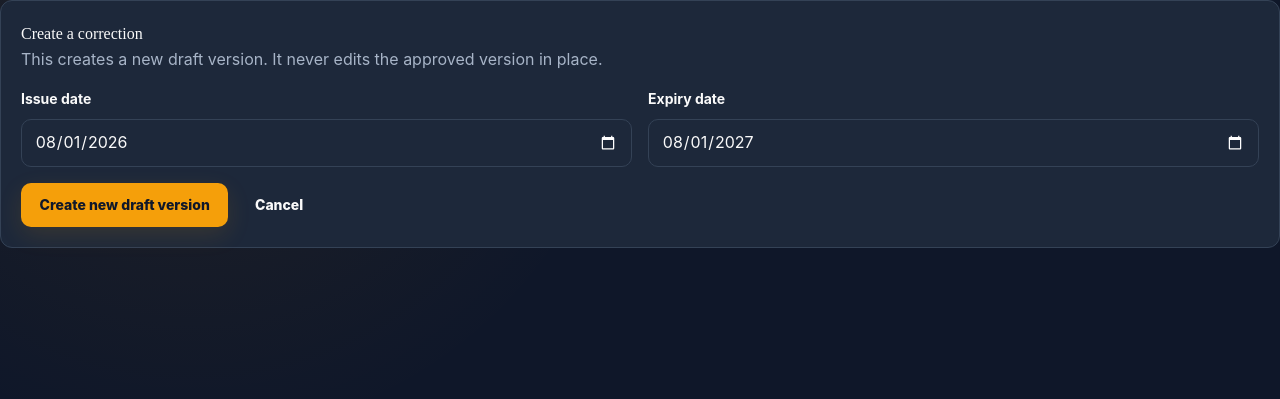
DocumentCorrectionForm › prefills authoritative values and associates invalid date order with expiry
The image size is (1280, 399).
Type "2028-09-01" into the date field labelled "Issue date" at (326,143), box [21,119,632,167]
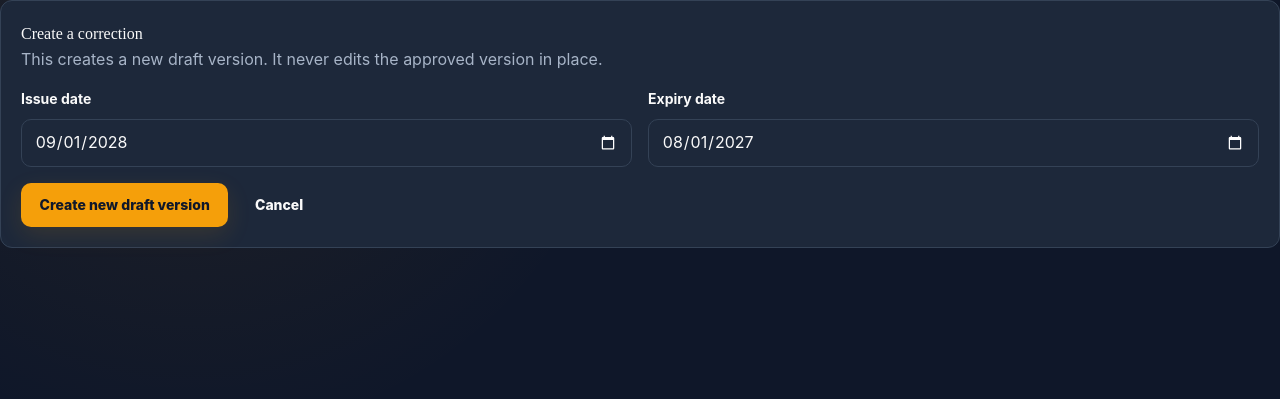
Submit the form named "Create new draft version"
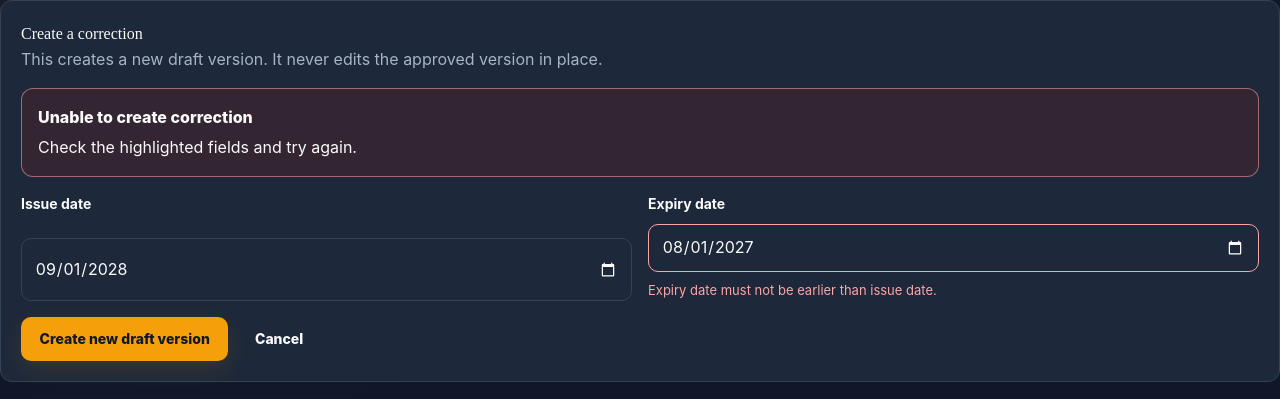
Check: the text "Expiry date must not be earlier than issue date." is shown, box [648,282,937,298]
